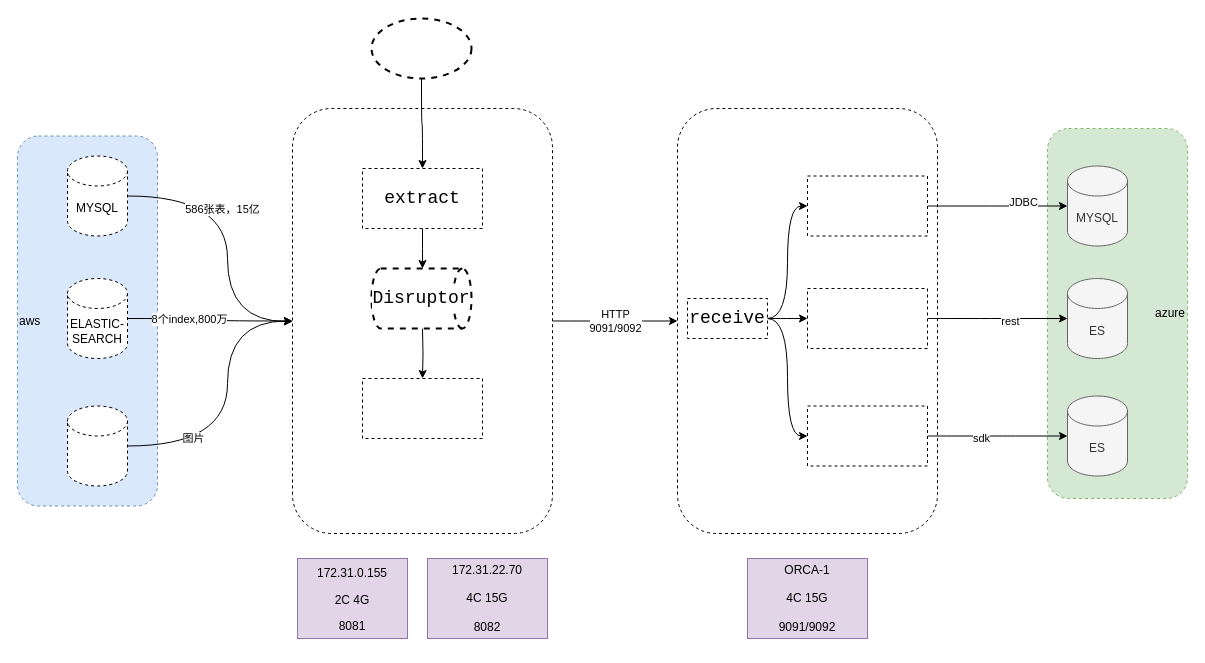
Some shapes in this 1205 by 663 pixel diagram are drawn without their labels. Here are the shapes that lost their labels. From the top down, the box of each, then its label:
(370, 17, 472, 79): START
(806, 175, 928, 236): Mysql DataSynServiceImpl
(806, 288, 928, 348): ElasticSearch DataSynServiceImpl
(362, 378, 482, 438): consumer
(66, 405, 128, 486): S3
(806, 405, 928, 466): BlobData SynServiceImpl
